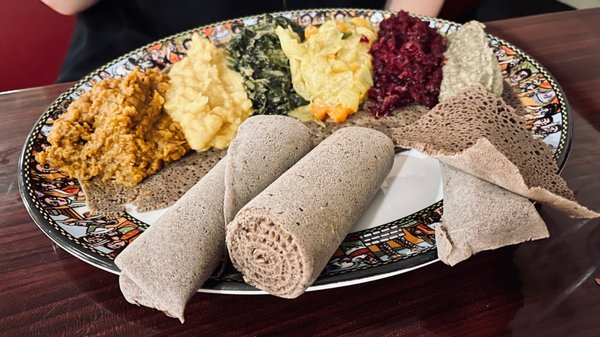curry: (223, 15, 303, 116)
soup: (224, 124, 395, 299), (434, 166, 550, 267)
